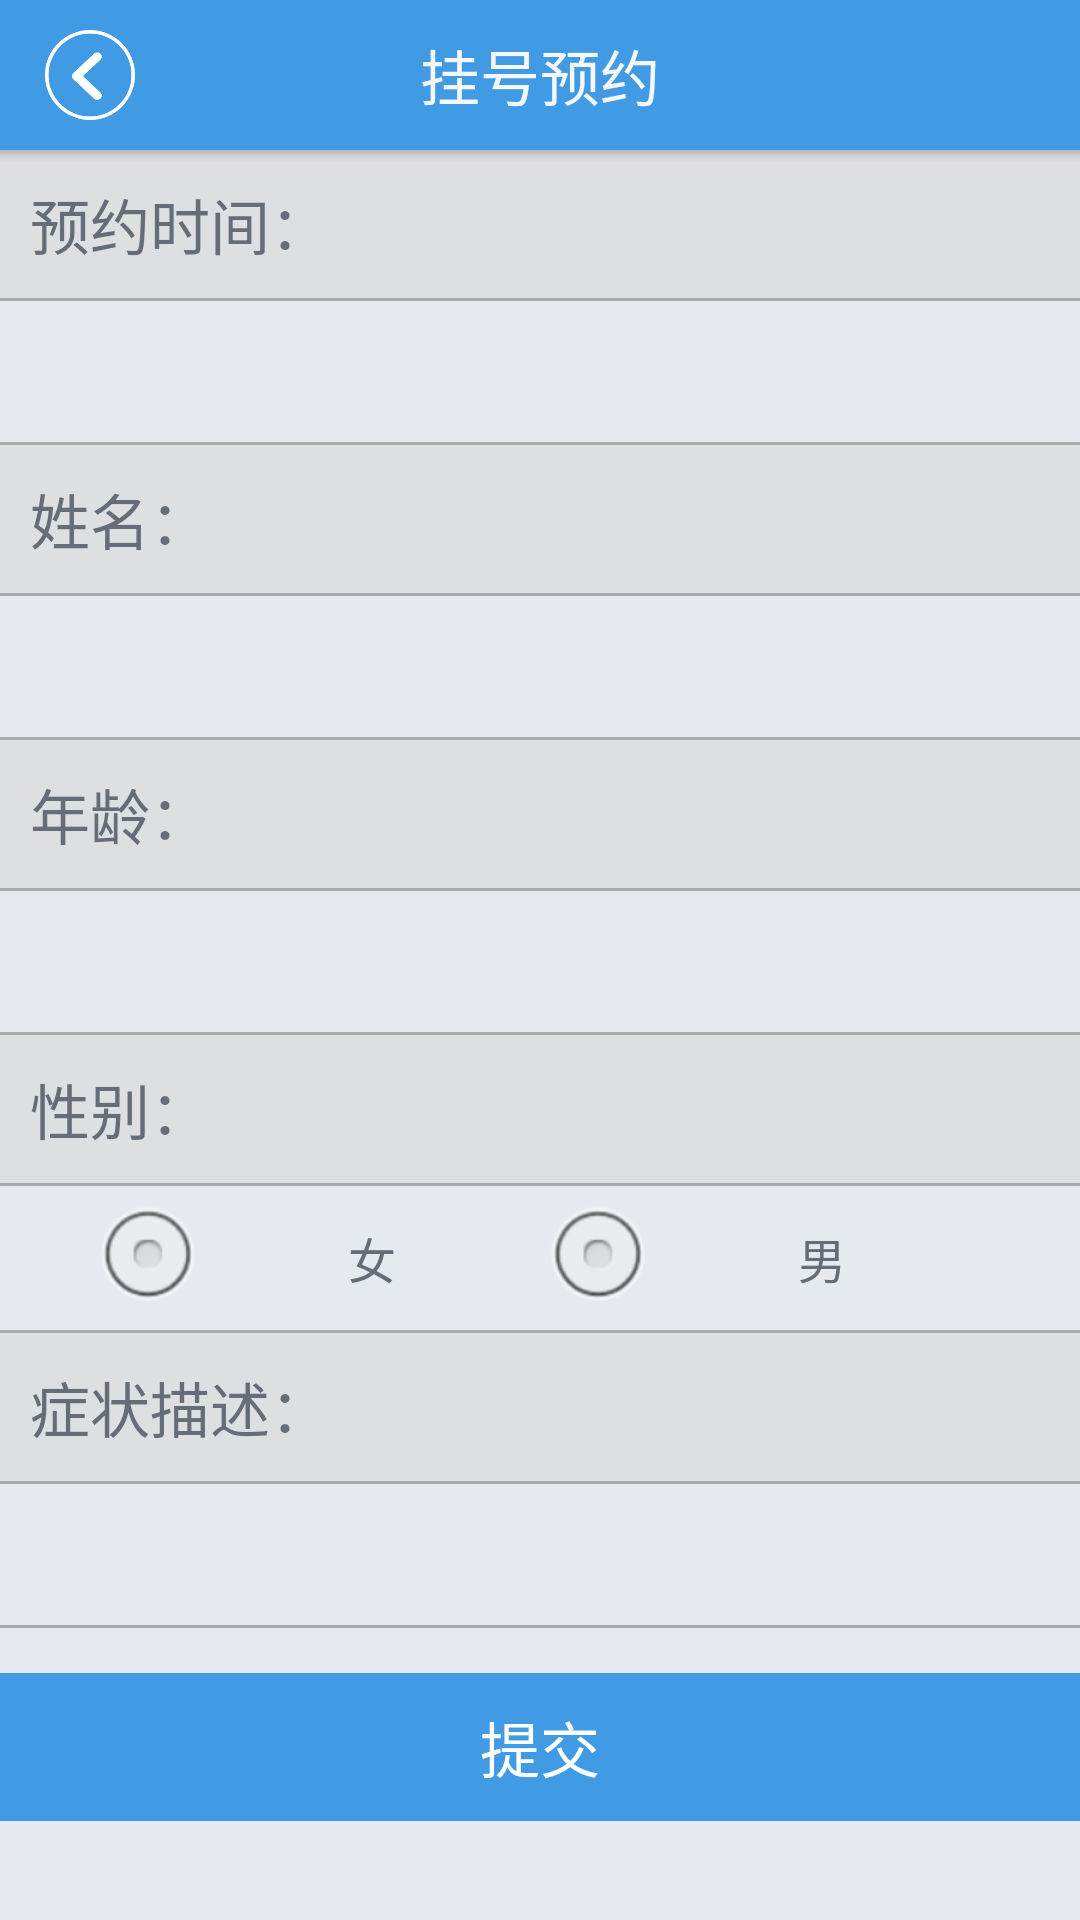

Icons on this 1080px x 1920px Android screen, each with the point to tap as (x=x, y=y):
gobackbtn: (x=90, y=75)
